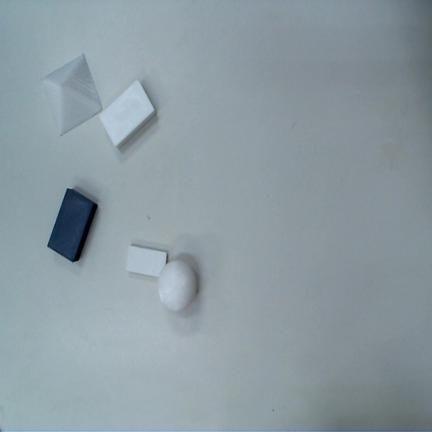Esfera: (157, 259, 196, 311)
Paralelepipedo: (98, 79, 156, 151), (47, 188, 98, 262), (126, 245, 167, 277)
Piramide: (42, 53, 104, 137)
